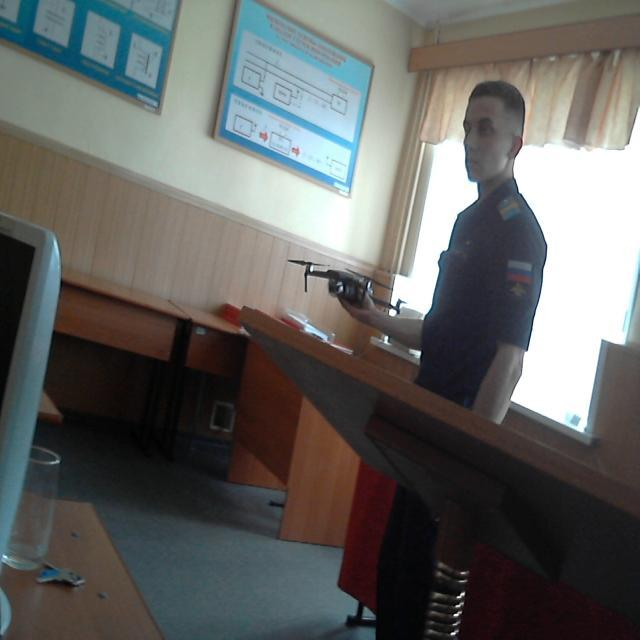drone: (287, 238, 415, 332)
